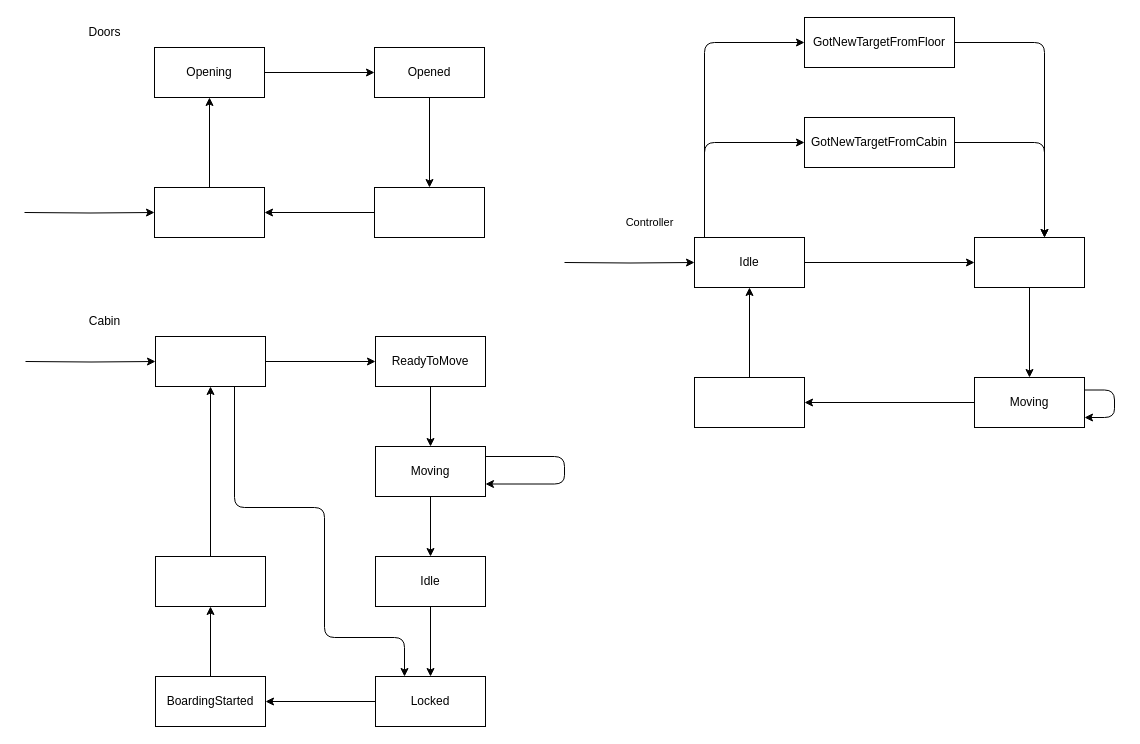
This 1140x744 diagram has some shape labels left out. Each missing label, with the centre of its shape:
Arrived: point (749, 402)
BoardingCompleted: point (210, 581)
Closed: point (209, 212)
Closing: point (429, 212)
PreparingToMove: point (1029, 262)
Unlocked: point (210, 361)
